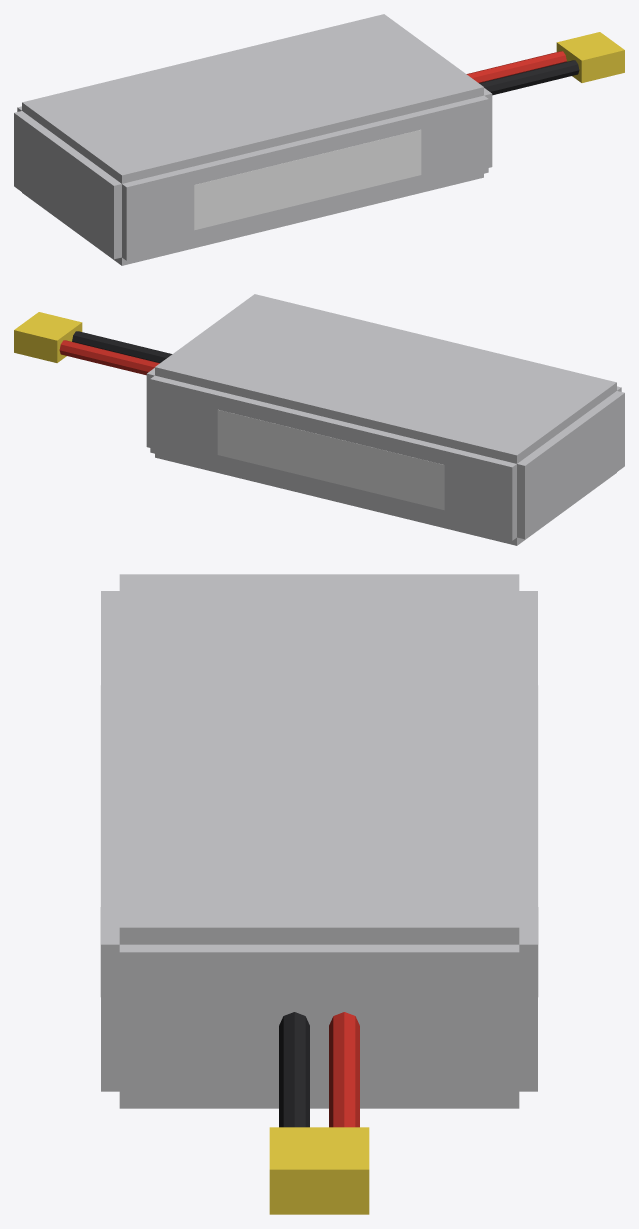
The model's file is Bat_SemiSolid5000.glb.
3 renders of one model, top to bottom at view 1: azimuth 30°, elevation 25°; view 2: azimuth 150°, elevation 25°; view 3: azimuth 270°, elevation 25°, orthographic. The views are drawn at different scales.
Visible parts, largest first — view 1: Bat_SemiSolid5000, Label.002, XT60.005, LeadB.005, LeadR.005; view 2: Bat_SemiSolid5000, Label.002, XT60.005, LeadR.005, LeadB.005; view 3: Bat_SemiSolid5000, XT60.005, LeadR.005, LeadB.005.
Part boxes in pixels (x1,y1,x2,y2): Bat_SemiSolid5000: [14, 14, 492, 265]; Label.002: [194, 129, 421, 230]; XT60.005: [556, 32, 624, 82]; LeadB.005: [479, 60, 579, 95]; LeadR.005: [466, 51, 566, 82]; Bat_SemiSolid5000: [146, 294, 624, 545]; Label.002: [217, 409, 444, 510]; XT60.005: [14, 312, 82, 362]; LeadR.005: [59, 340, 159, 375]; LeadB.005: [72, 331, 172, 362]; Bat_SemiSolid5000: [101, 574, 537, 1108]; XT60.005: [269, 1127, 369, 1214]; LeadR.005: [329, 1012, 359, 1127]; LeadB.005: [279, 1012, 309, 1127].
Size of the model in its own units: 0.203 by 0.032 by 0.0701.
